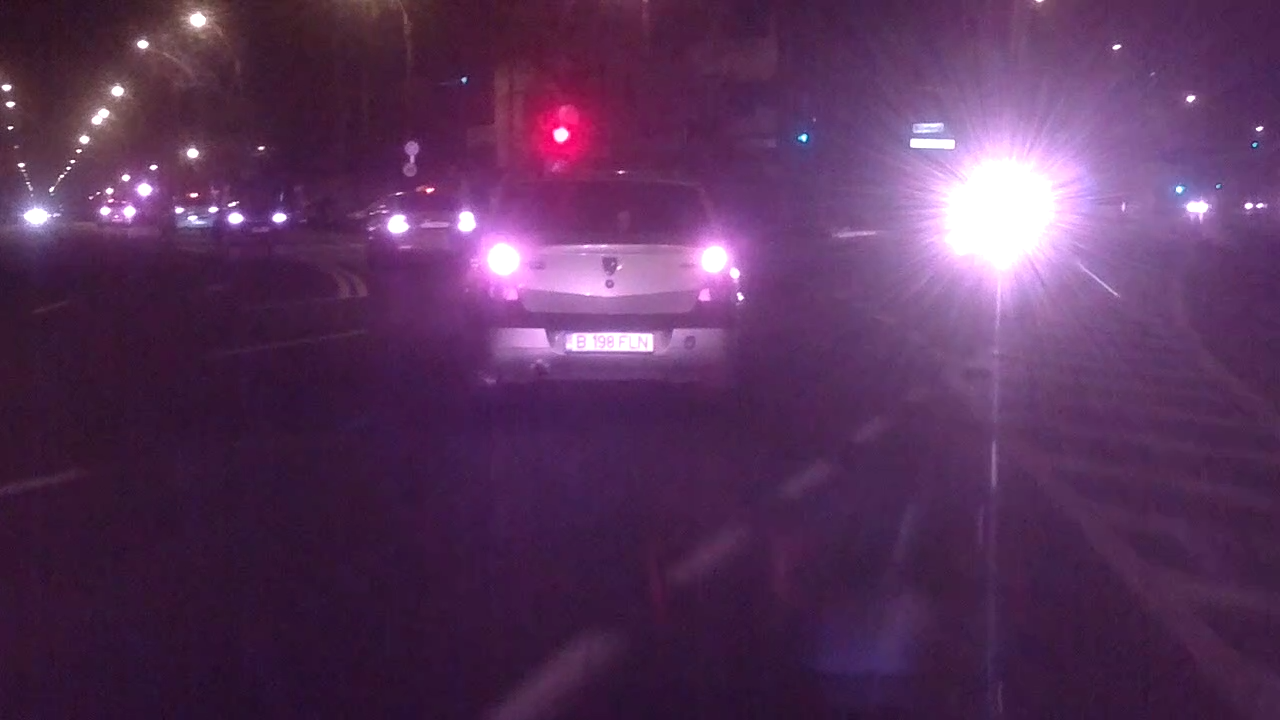license-plate: (562, 327, 657, 356)
